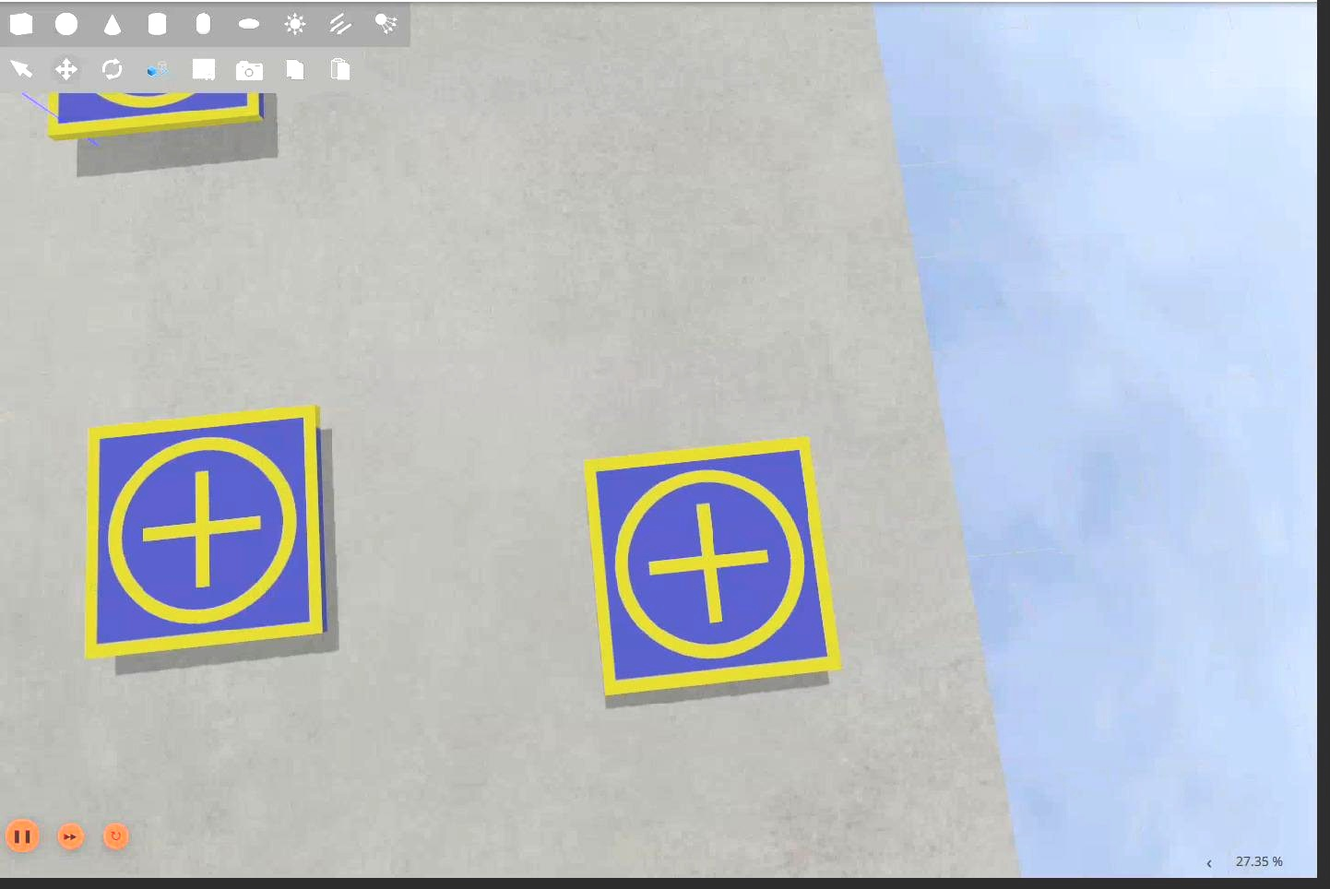small_base: (587, 439, 844, 695), (89, 406, 327, 660), (47, 91, 268, 138)
